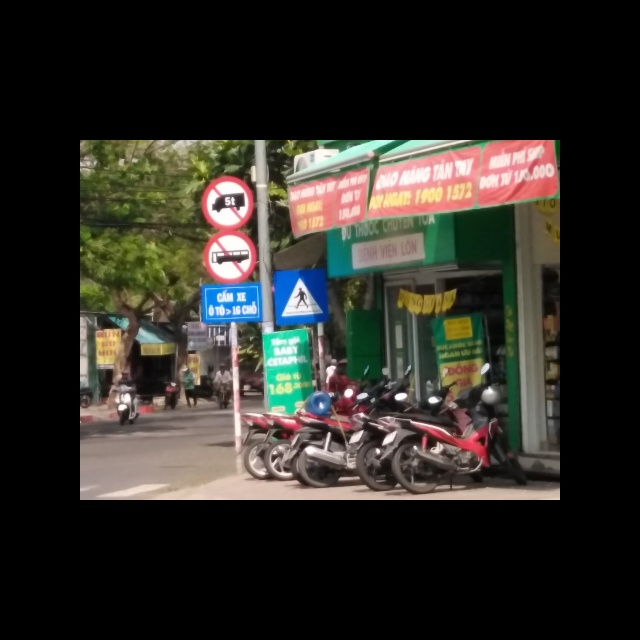Cấm xe tải: (202, 175, 255, 228)
Cấm xe xe khách: (203, 230, 257, 283)
Đường dành cho người đi bộ: (274, 269, 330, 323)
